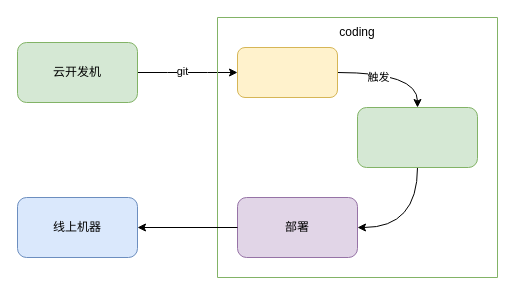
The diagram is 515 pixels wide and 295 high, and some of its shapes have lost their labels. The shapes that lost their labels are listed below. From the top down, each one's centre as x and y in pixels, then its label:
[287,72]: 代码仓库
[417,137]: 持续集成
